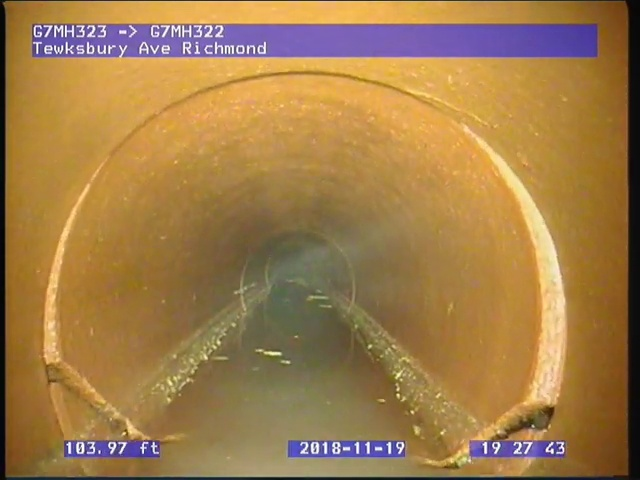crack: (39, 358, 189, 446), (412, 393, 557, 473)
